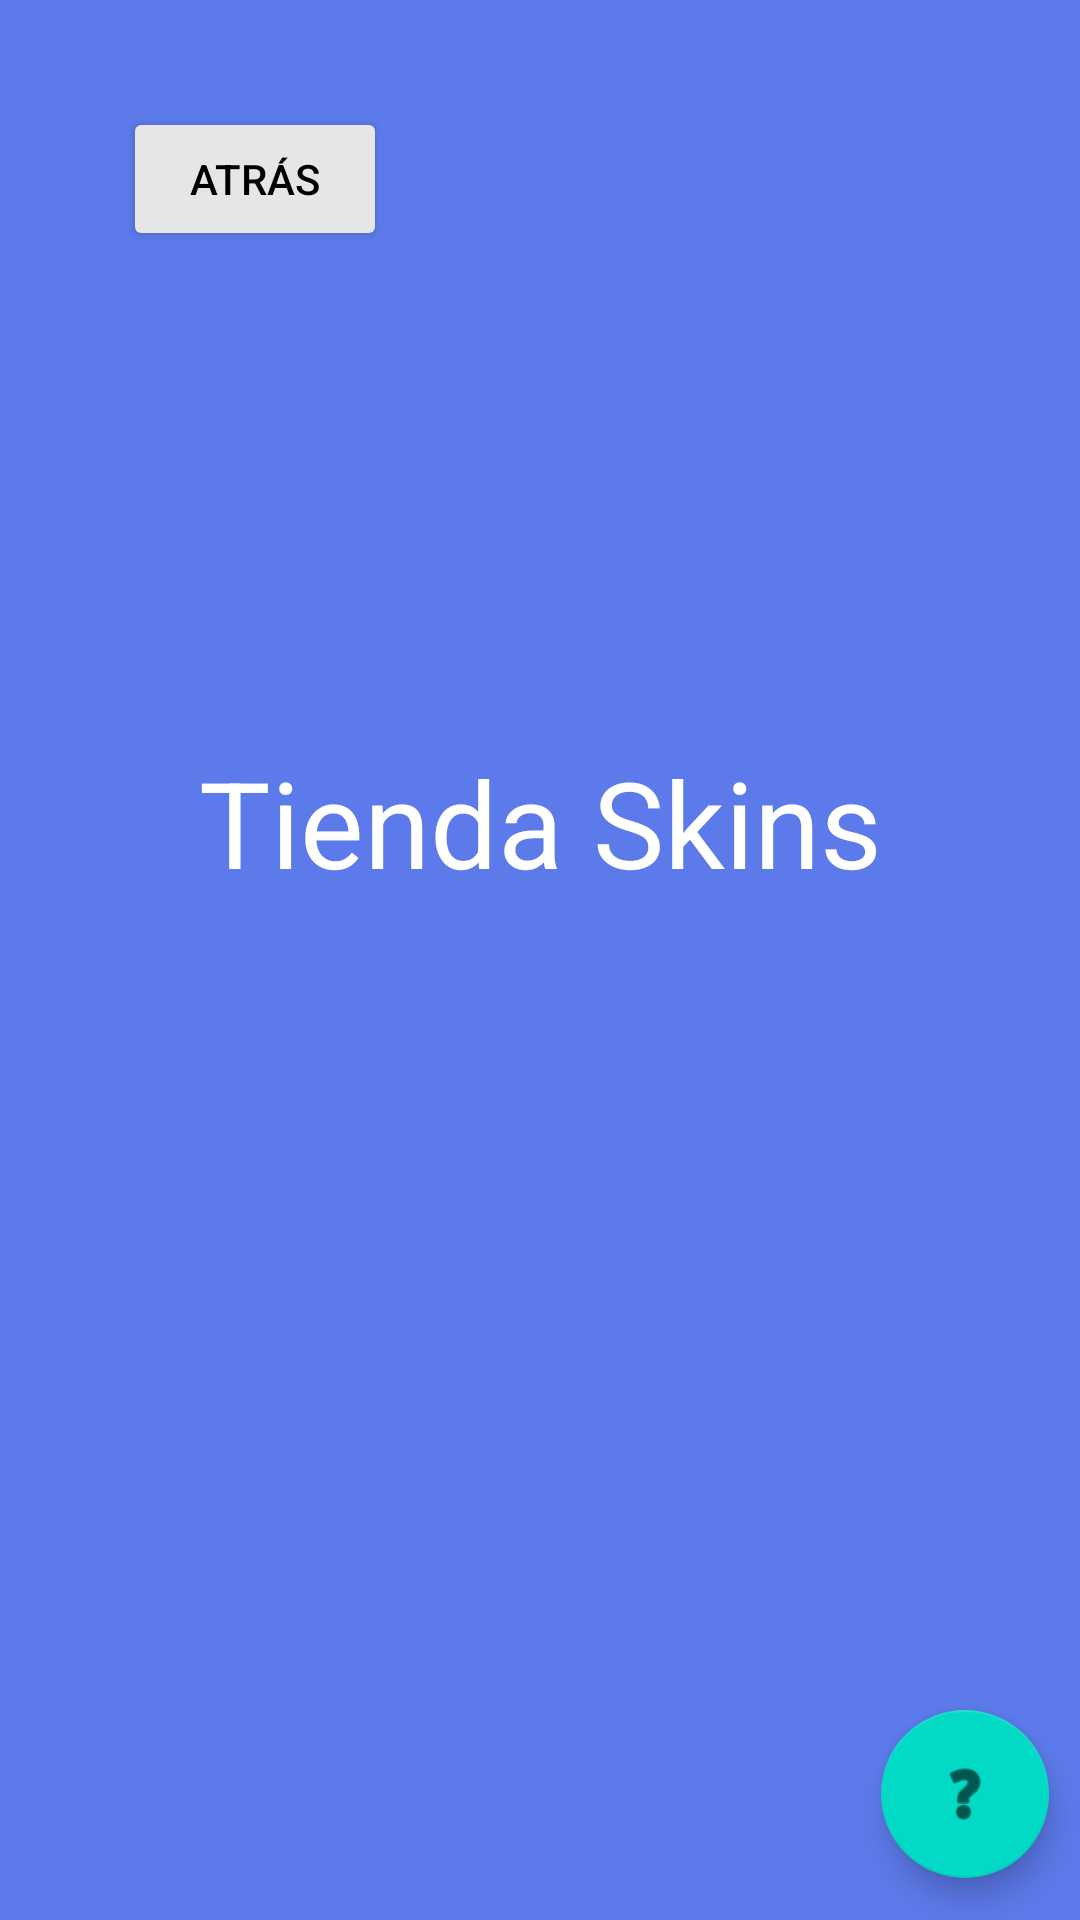

Icons on this 1080 x 1920 Android screen, each with the point to tap as [x,y]:
help: [965,1794]
